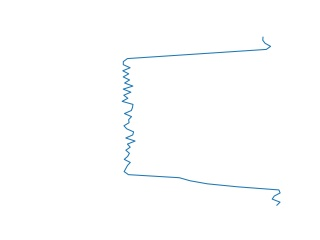distributaryChannelFill: (116, 37, 286, 206)
